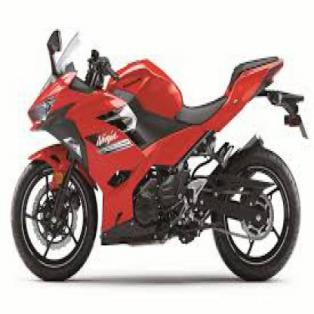Motocicleta: (11, 21, 308, 288)
